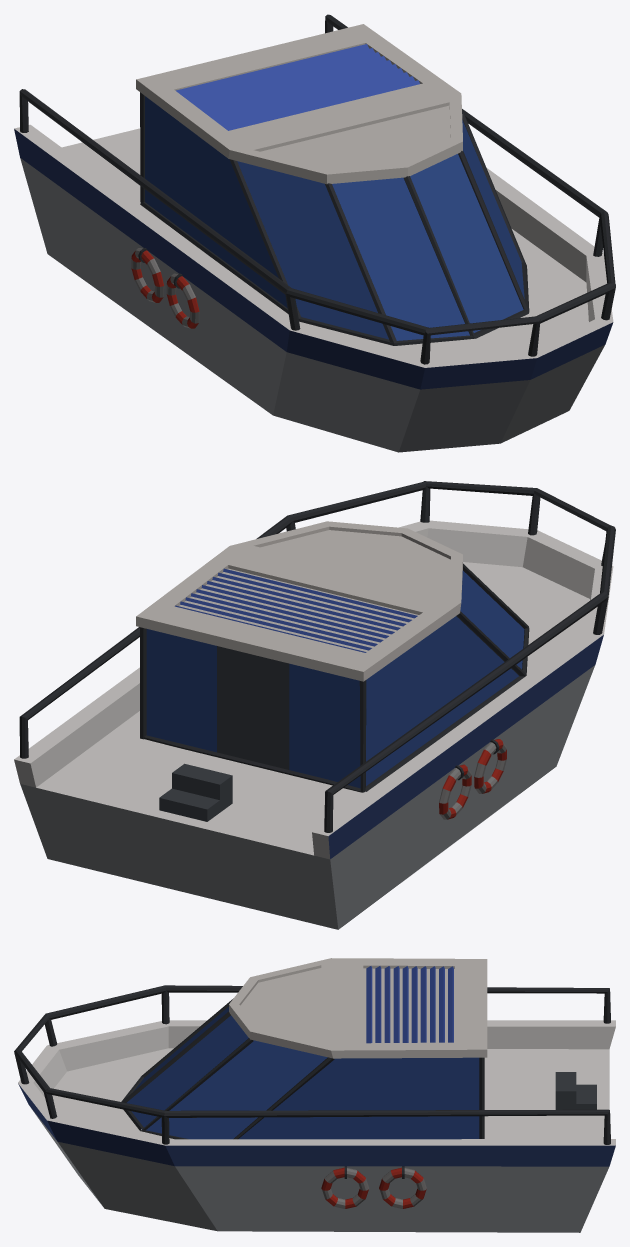
The model's file is Yacht_2.fbx.
3 views of the same model, one above another, from view 1: azimuth 30°, elevation 25°; view 2: azimuth 150°, elevation 25°; view 3: azimuth 270°, elevation 25° (orthographic). The views are drawn at different scales.
Visible parts, largest first — view 1: Yacht_2; view 2: Yacht_2; view 3: Yacht_2.
Boxes of the visible parts, x1,y1,x2,y2 form: Yacht_2: [14, 14, 615, 452]; Yacht_2: [14, 481, 615, 929]; Yacht_2: [14, 958, 615, 1232].
Bounding box in the file's own units: 472 × 287 × 917.
